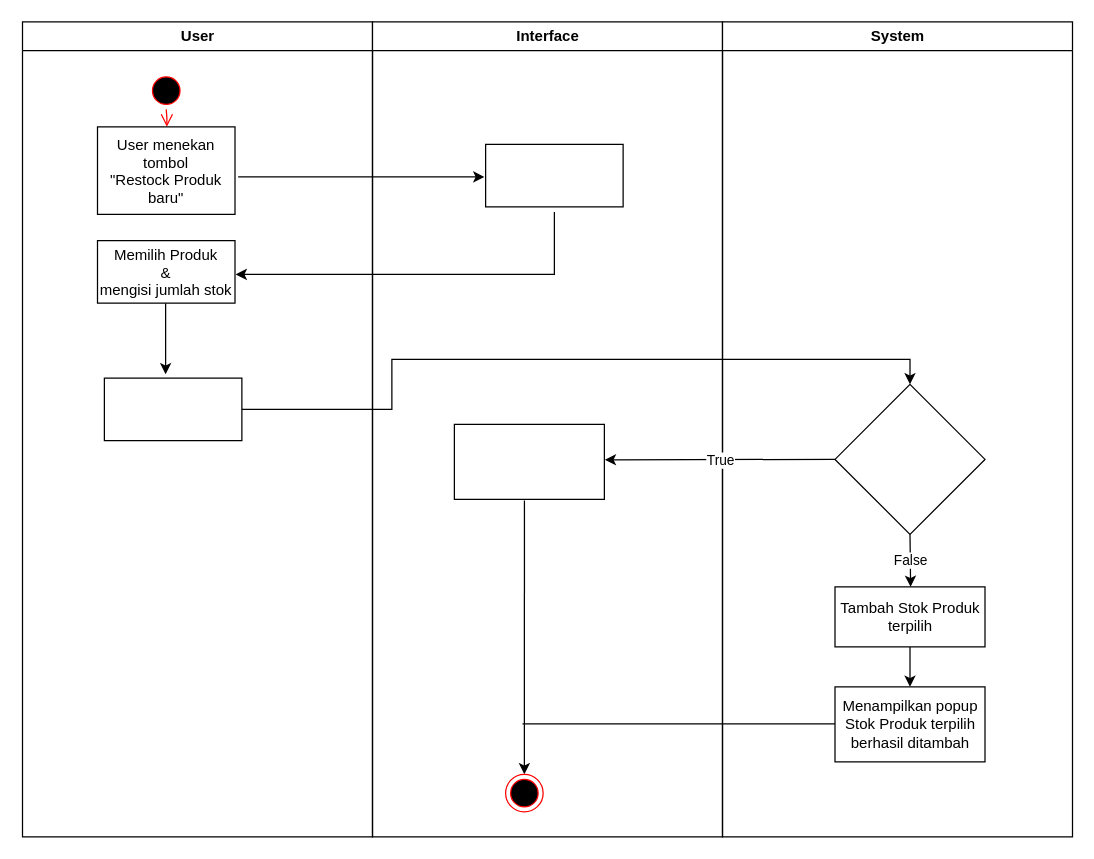
This 1094x859 diagram has some shape labels left out. Here are the shapes that lost their labels. From the top down, the centre of each, then its label:
the point at 553,175: Menampilkan Form Restock Produk
the point at 172,409: Klik button Restock Produk
the point at 528,461: Menampilkan popup Input tidak valid
the point at 909,458: Apakah input stok valid?
